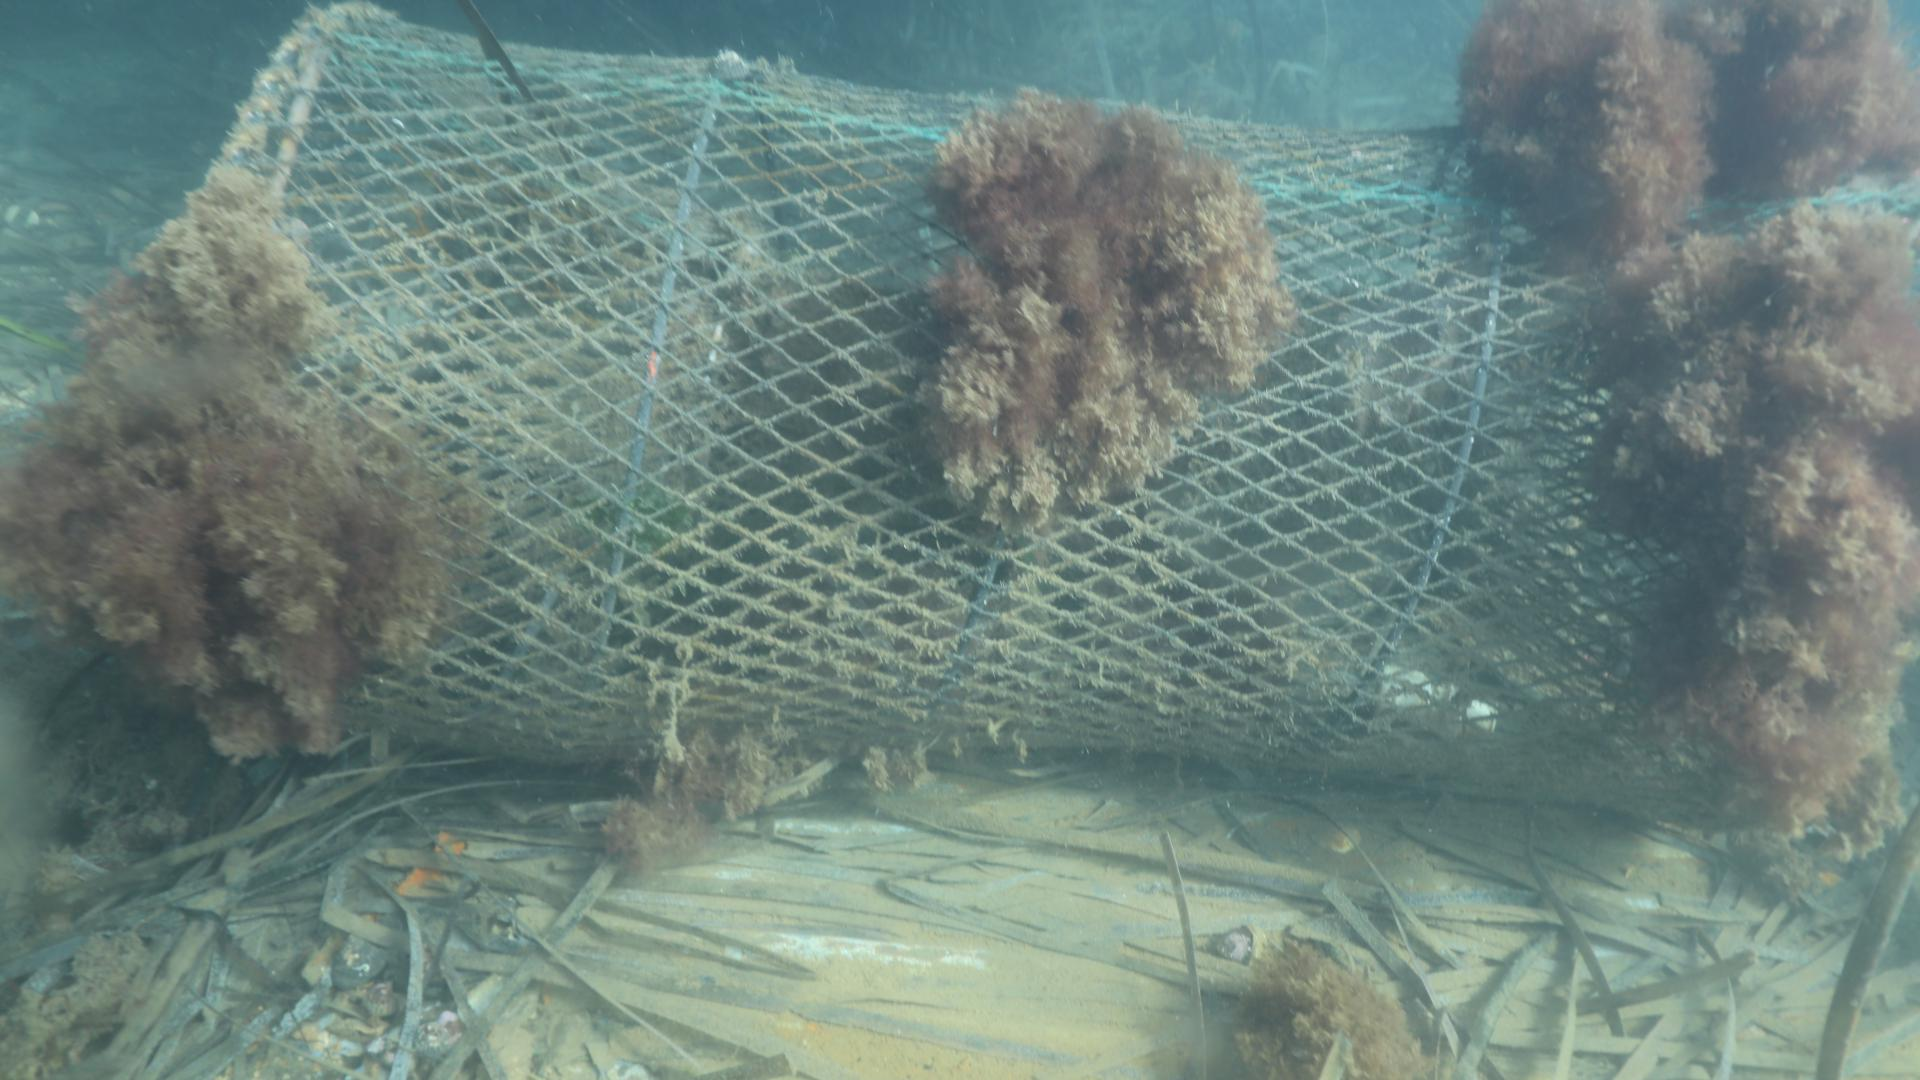spring fish trap: (132, 1, 1920, 849)
